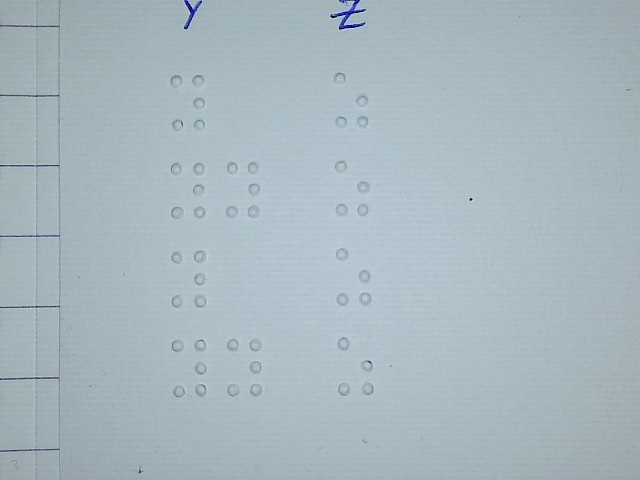Y: (170, 72, 206, 132), (225, 159, 261, 219), (170, 159, 206, 219), (171, 247, 207, 307), (226, 336, 262, 396)
Z: (334, 69, 370, 129), (334, 158, 370, 218), (336, 246, 372, 306), (337, 336, 373, 396)
